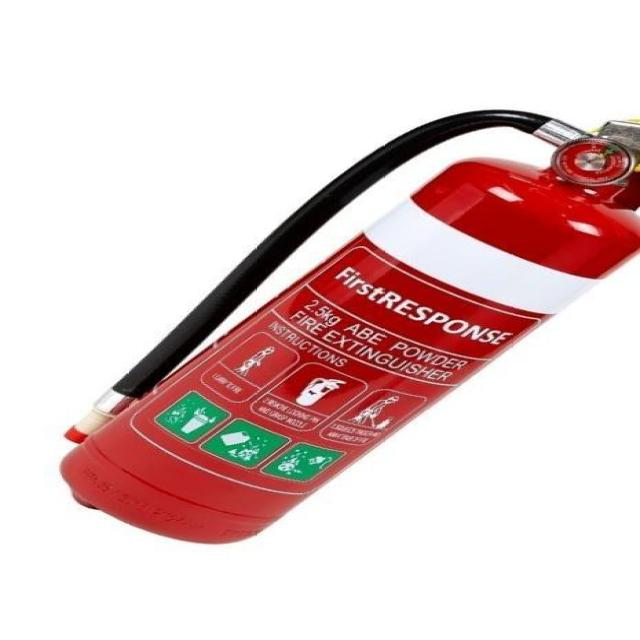fire_extinguisher: (48, 101, 639, 550)
